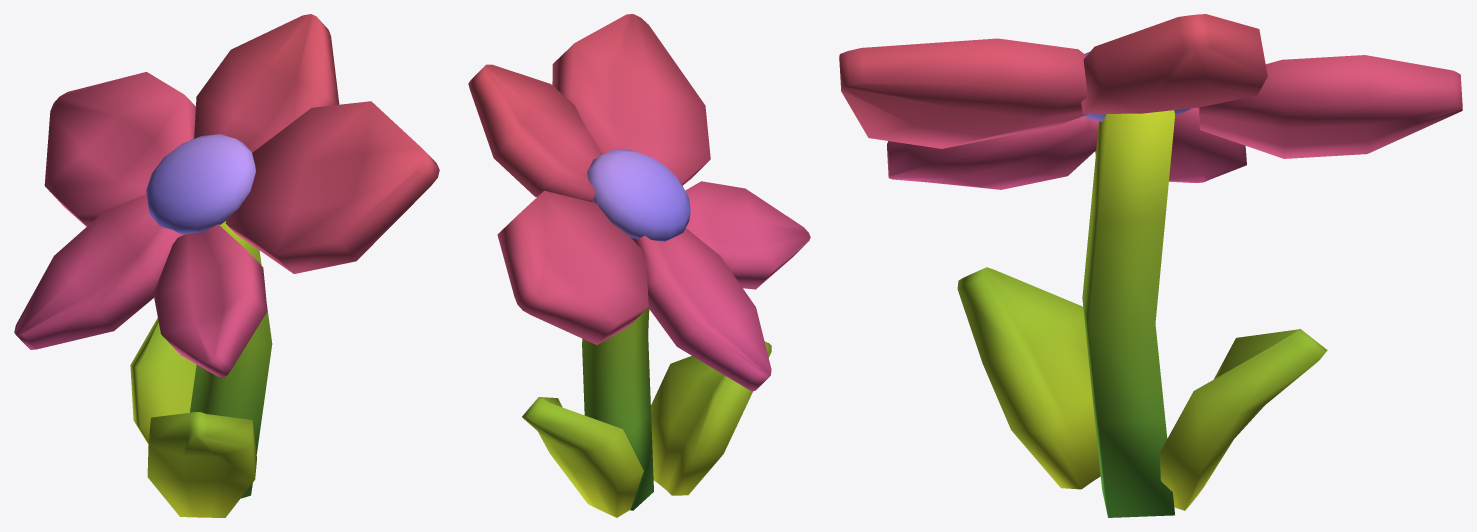
File: flower_RedBlue.fbx
3 views of the same model, side by side, from view 1: azimuth 30°, elevation 25°; view 2: azimuth 150°, elevation 25°; view 3: azimuth 270°, elevation 25° (orthographic). The views are drawn at different scales.
Parts seen in each view (by area): view 1: flower_RedBlue; view 2: flower_RedBlue; view 3: flower_RedBlue.
Part boxes in pixels (bbox=[...]): flower_RedBlue: bbox=[14, 14, 439, 517]; flower_RedBlue: bbox=[468, 14, 810, 517]; flower_RedBlue: bbox=[839, 14, 1462, 517].
Size of the model in its own units: 103 by 137 by 138.
